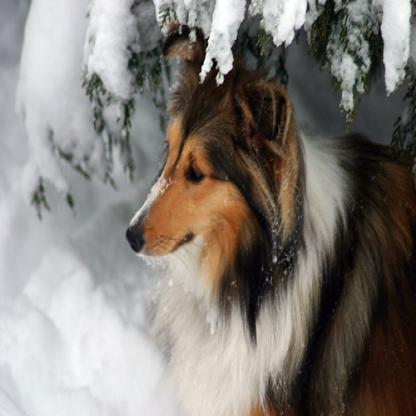Shetland_sheepdog: (122, 19, 414, 414)
